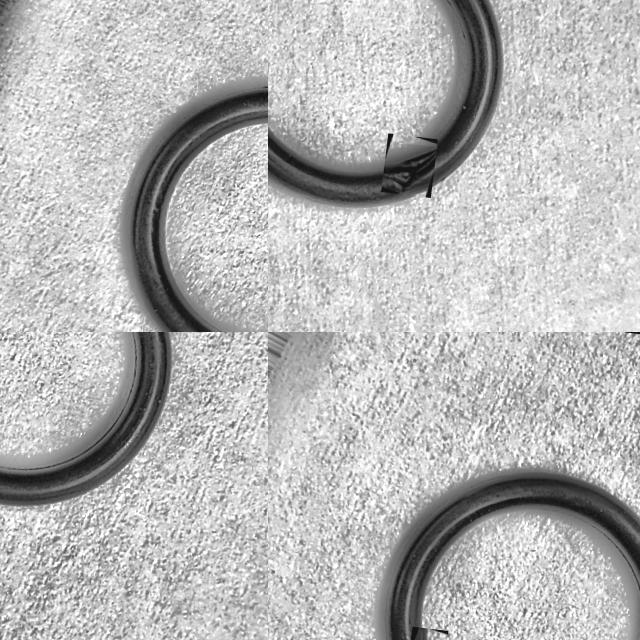切割缺陷: (382, 148, 436, 194)
